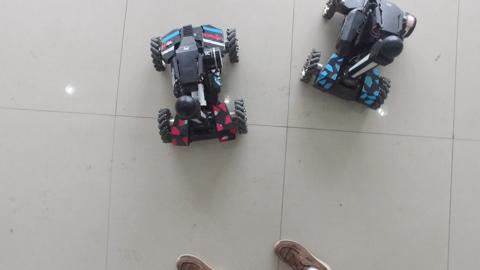chariot: (143, 19, 250, 156), (291, 1, 418, 116)
